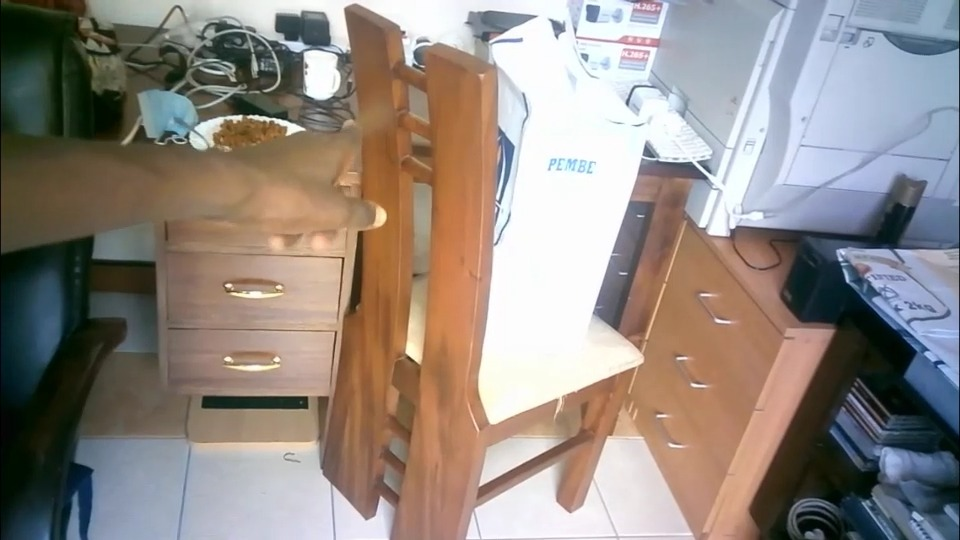wheat_flour_blue_label: (501, 29, 622, 356)
